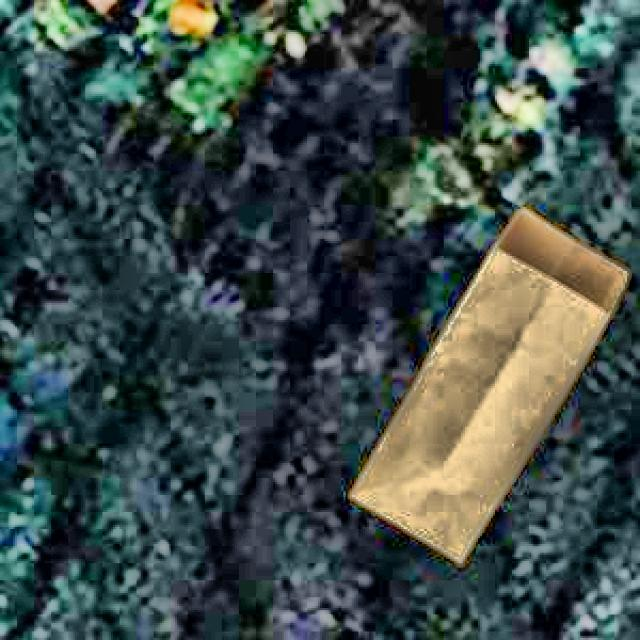Paper-bag: (341, 195, 640, 567)
